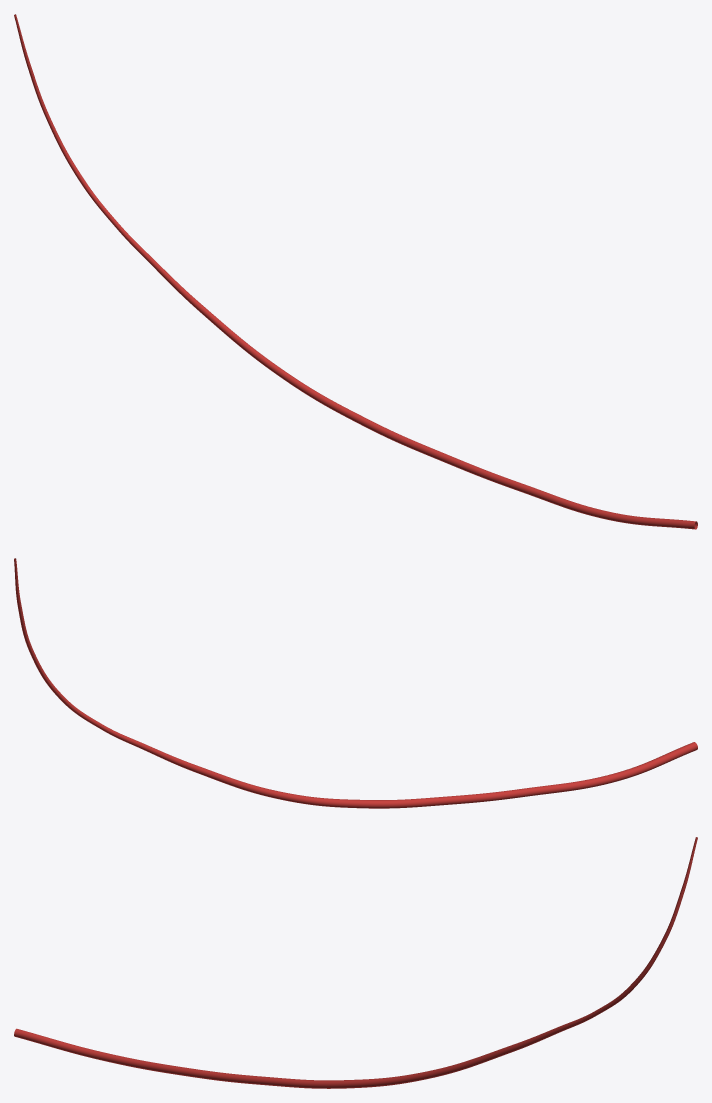
3 renders of one model, top to bottom at view 1: azimuth 90°, elevation 25°; view 2: azimuth 150°, elevation 25°; view 3: azimuth 270°, elevation 25°, orthographic. The views are drawn at different scales.
Parts seen in each view (by area): view 1: 左侧肌膈动脉; view 2: 左侧肌膈动脉; view 3: 左侧肌膈动脉.
Boxes of the visible parts, box(x1,y1,x2,y2) form: 左侧肌膈动脉: box(14, 14, 697, 529); 左侧肌膈动脉: box(14, 558, 697, 808); 左侧肌膈动脉: box(14, 837, 697, 1088).
Size of the model in its own units: 0.1469 by 0.1545 by 0.2632.
